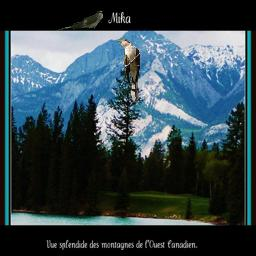Cuckoo: (117, 39, 140, 103), (57, 10, 103, 31)
